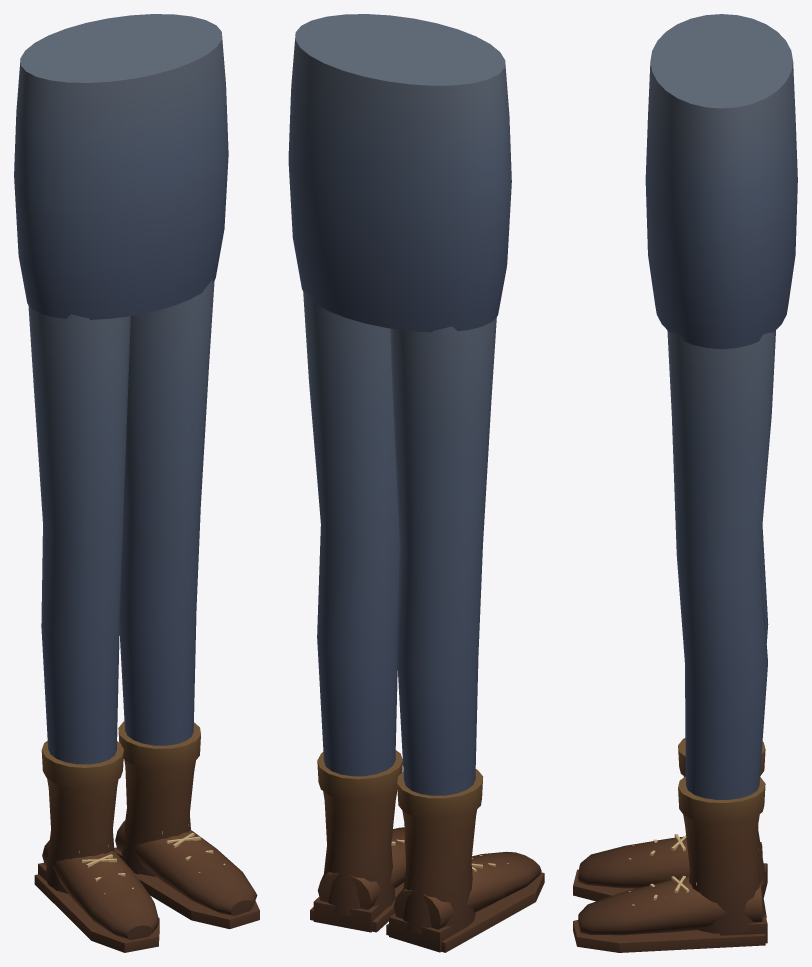
File: merchant_lio_lower.glb
3 views of the same model, side by side, from view 1: azimuth 30°, elevation 25°; view 2: azimuth 150°, elevation 25°; view 3: azimuth 270°, elevation 25° (orthographic). The views are drawn at different scales.
Parts seen in each view (by area): view 1: merchant_lio_lower; view 2: merchant_lio_lower; view 3: merchant_lio_lower.
Part boxes in pixels (left/top/right/bottom): merchant_lio_lower: left=14, top=14, right=259, bottom=952; merchant_lio_lower: left=288, top=14, right=544, bottom=952; merchant_lio_lower: left=573, top=14, right=797, bottom=952.
Size of the model in its own units: 1 by 3.95 by 0.945.
1 material, 1 textured.
